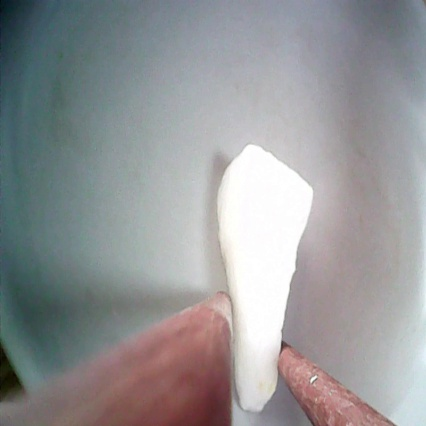white_chinese-yam: (220, 142, 314, 409)
